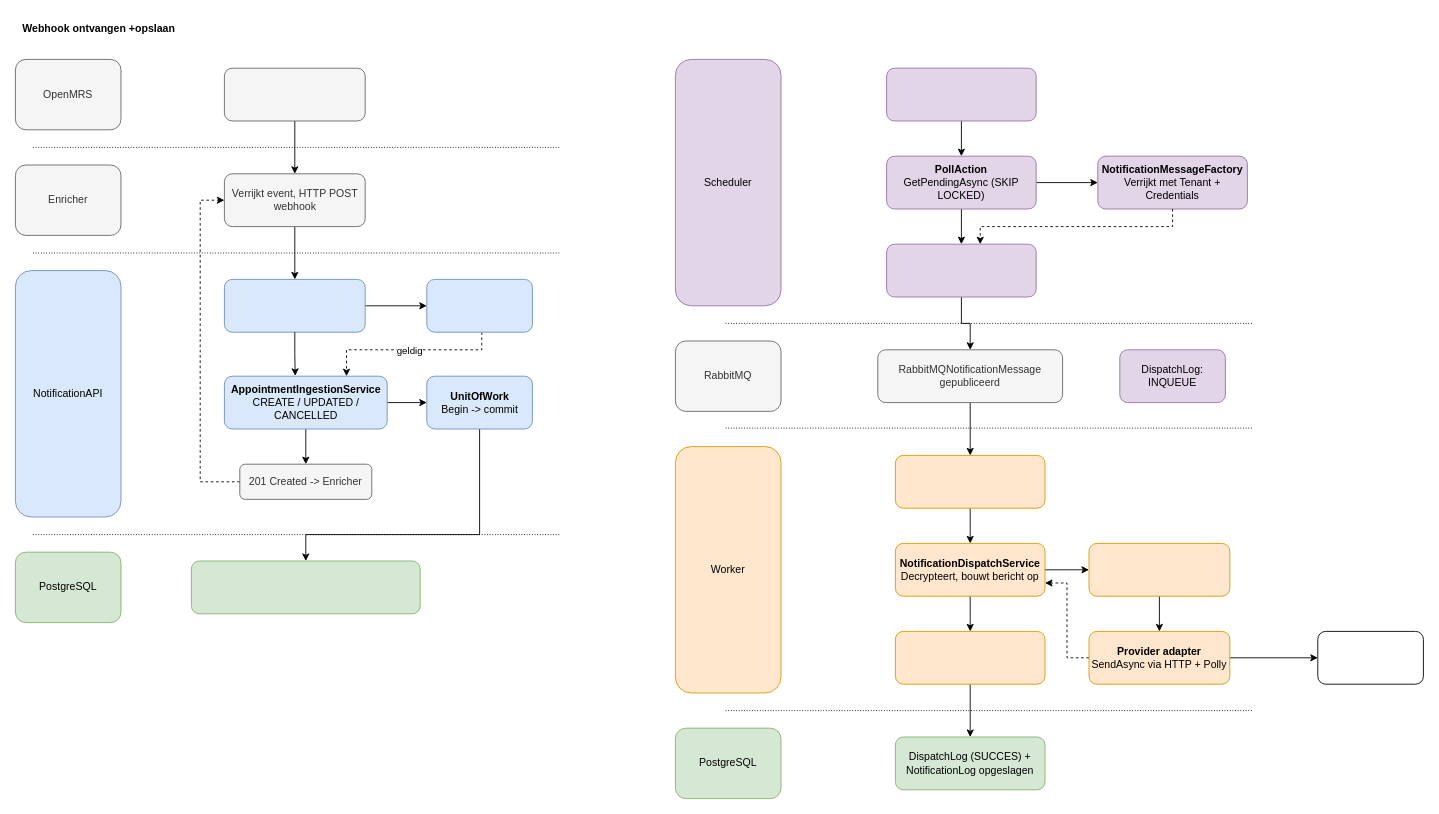
Some shapes in this 1439 by 814 pixel diagram are drawn without their labels. The shapes that lost their labels are listed below. From the top down, each one's centre as x and y in pixels, then its label:
At pixel 294 94: "Stuurt appointment event".
At pixel 961 94: "PollerBackgroundService Elke 60 seconden".
At pixel 961 270: "DispatchLog:INSCHEDULER Schrijft status naar Db".
At pixel 294 305: "WebhookEndpoints Valideert tenant + API key".
At pixel 479 305: "TenantService Hash vergelijken".
At pixel 970 481: "ConsumerService Ontvangt bericht, staleness check".
At pixel 305 587: "Appointment + Patient + ScheduledNotification (24u + 1u) + DispatchLog".
At pixel 1159 569: "MessageProviderFactory Keyed DI op providernaam".
At pixel 970 657: "BasicAck + Logs schrijven DispatchLog: SUCCES + NotificationLog".
At pixel 1370 657: "Provider".
